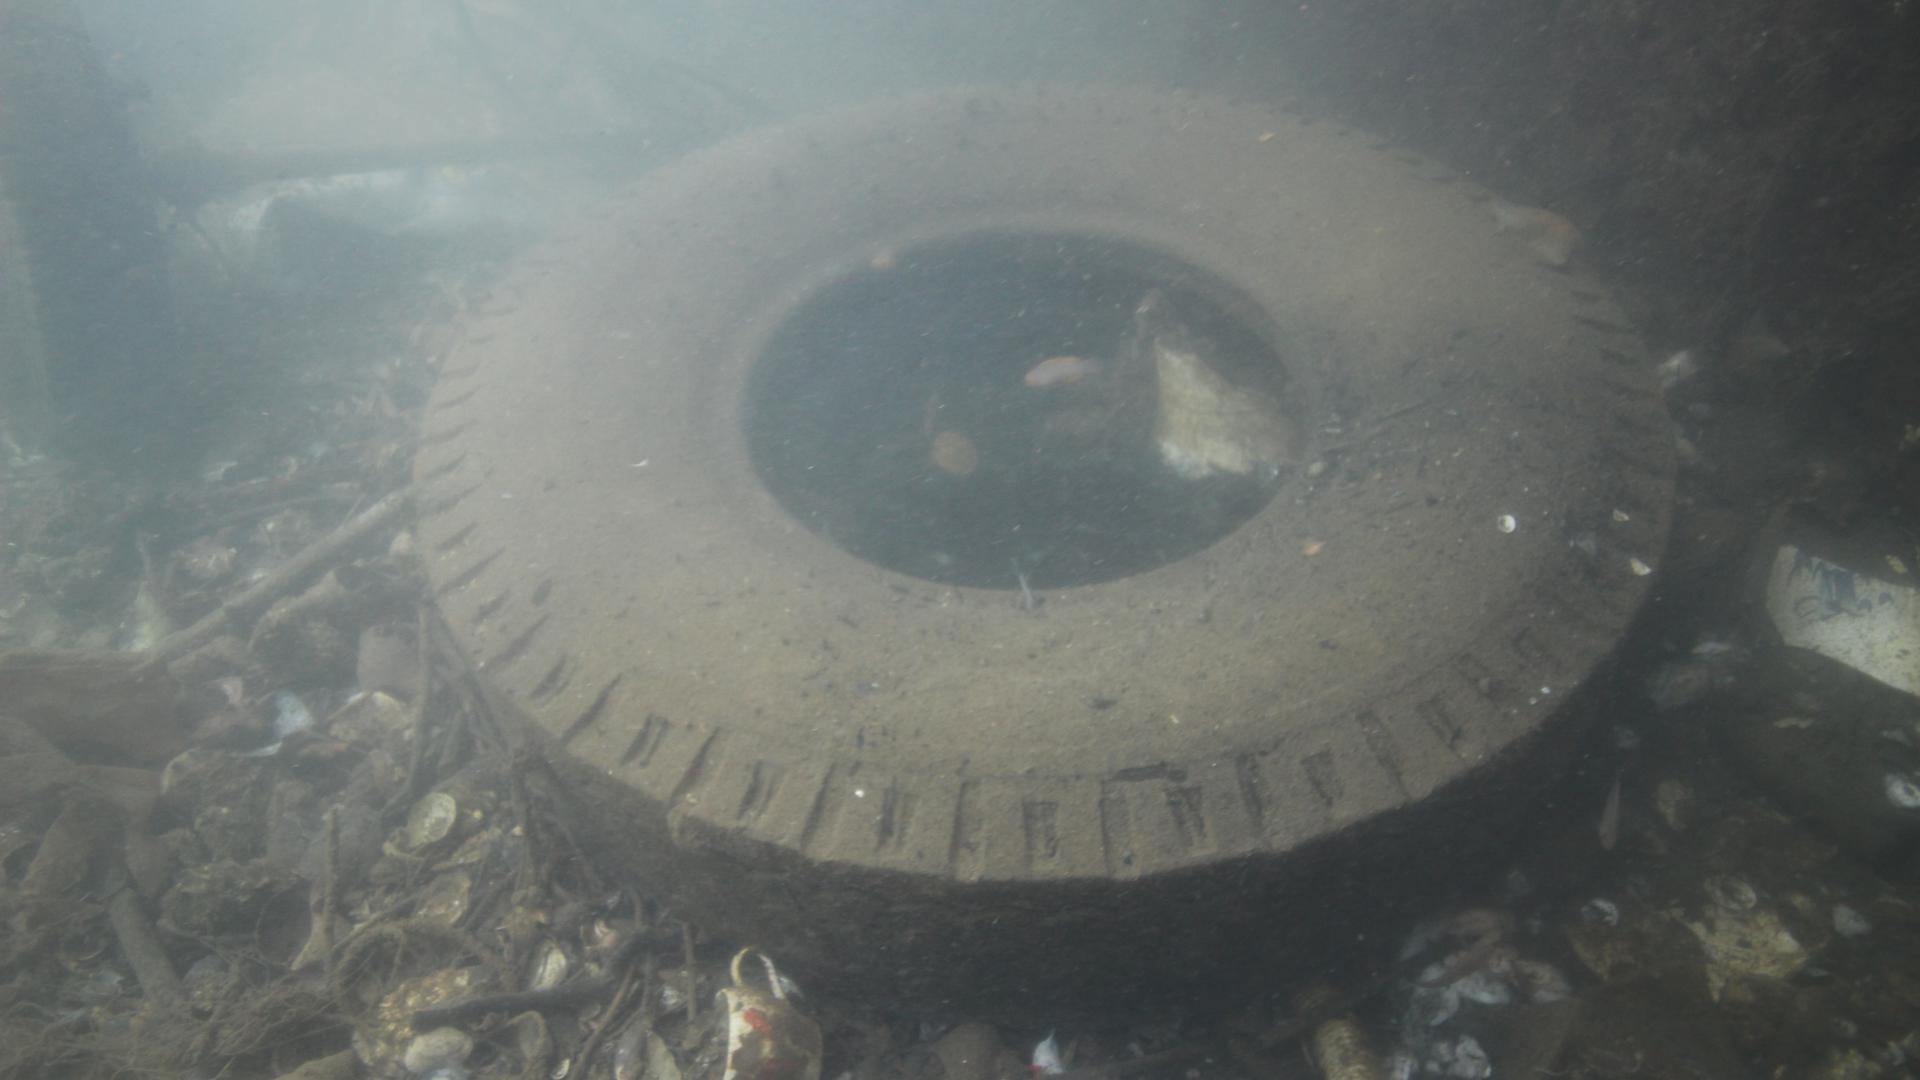tire: (407, 79, 1679, 1048)
